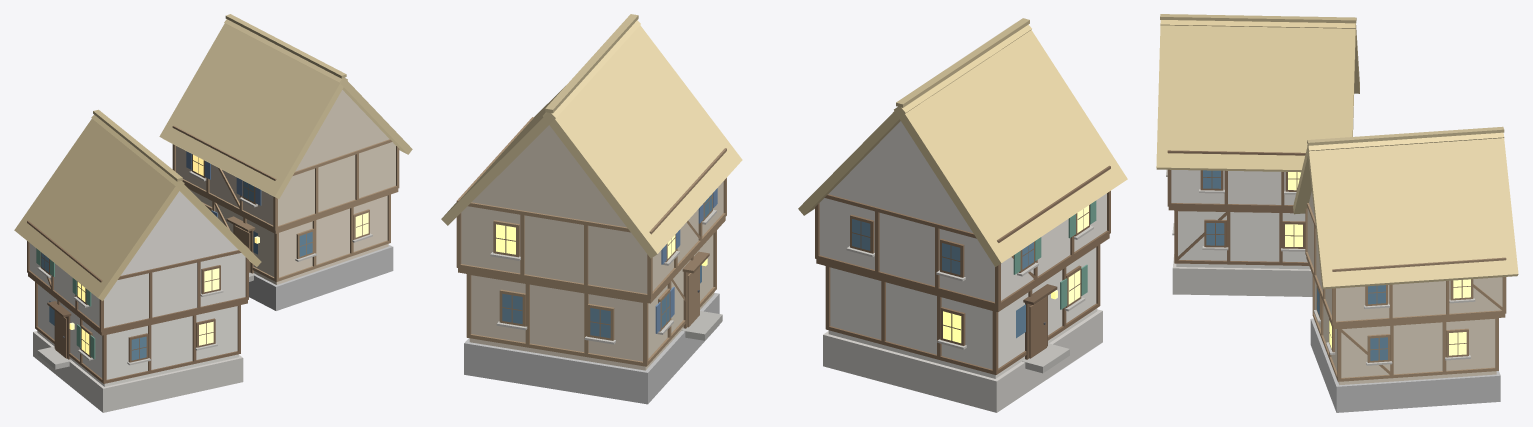
The model's file is struct_4_8.glb.
3 views of the same model, side by side, from view 1: azimuth 30°, elevation 25°; view 2: azimuth 150°, elevation 25°; view 3: azimuth 270°, elevation 25° (orthographic). The views are drawn at different scales.
Visible parts, largest first — view 1: HousesNear; view 2: HousesNear; view 3: HousesNear.
Part boxes in pixels (x1=…): HousesNear: x1=14, y1=14, x2=412, y2=412; HousesNear: x1=441, y1=14, x2=1127, y2=412; HousesNear: x1=1156, y1=14, x2=1518, y2=412.
Bounding box in the file's own units: 21 × 11.61 × 15.7.
